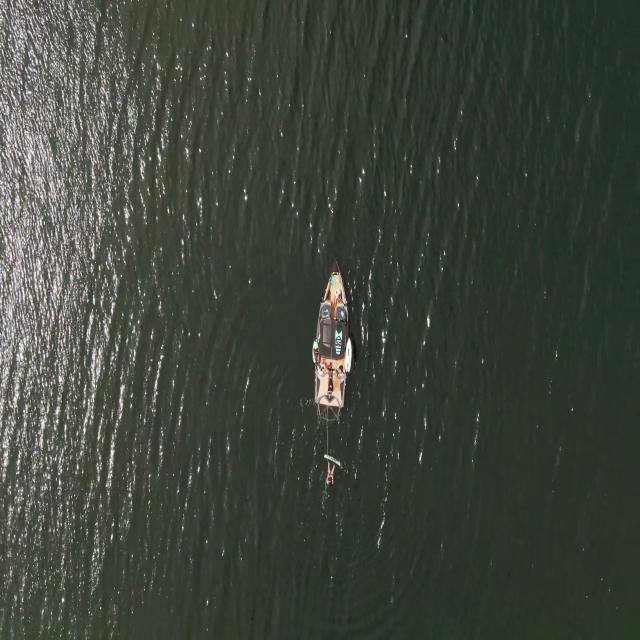ship: (314, 262, 349, 420), (344, 331, 353, 377)
